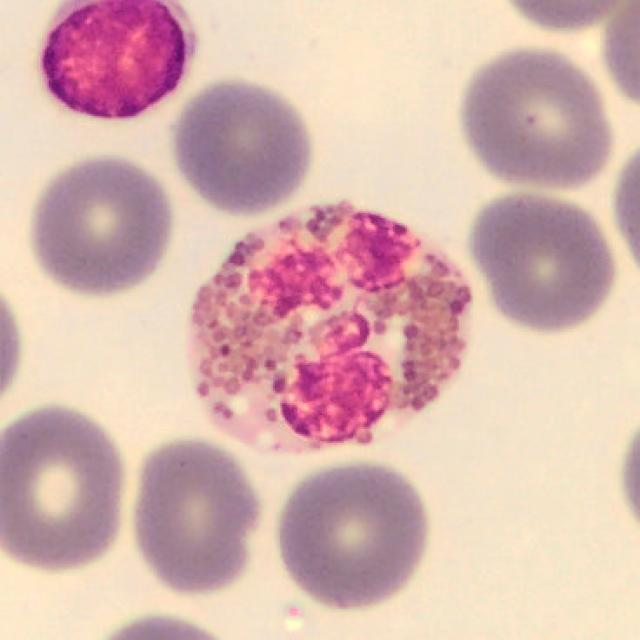Eosinofilo: (190, 201, 475, 457)
Linfocito: (38, 0, 197, 121)
